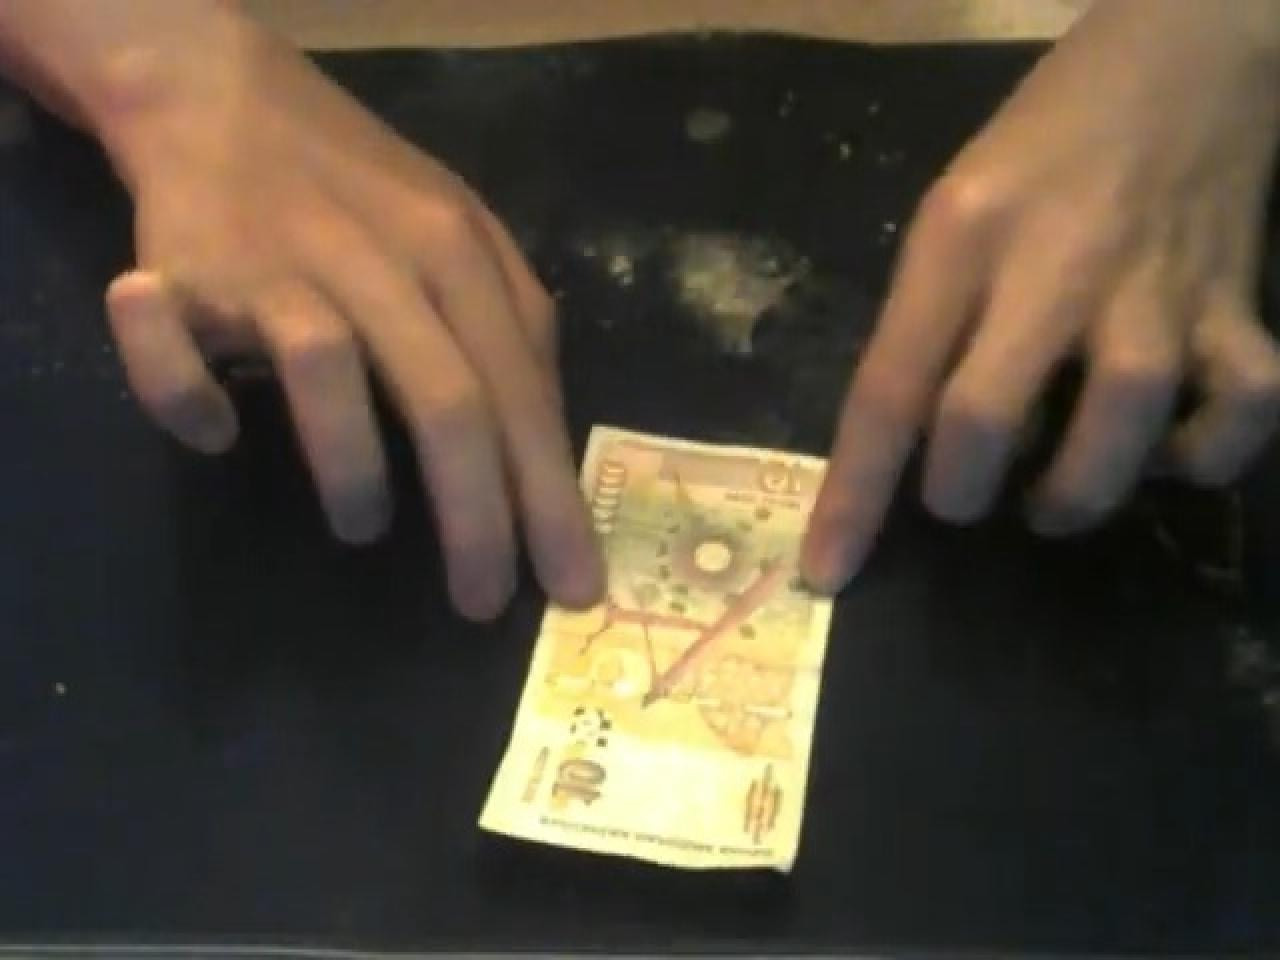10leva: (476, 418, 840, 877)
